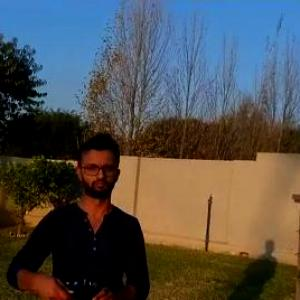follow: (1, 125, 157, 299)
